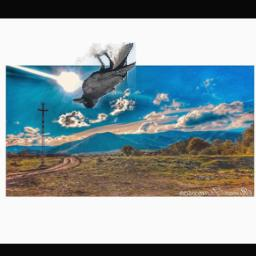Crow: (71, 43, 135, 109)
